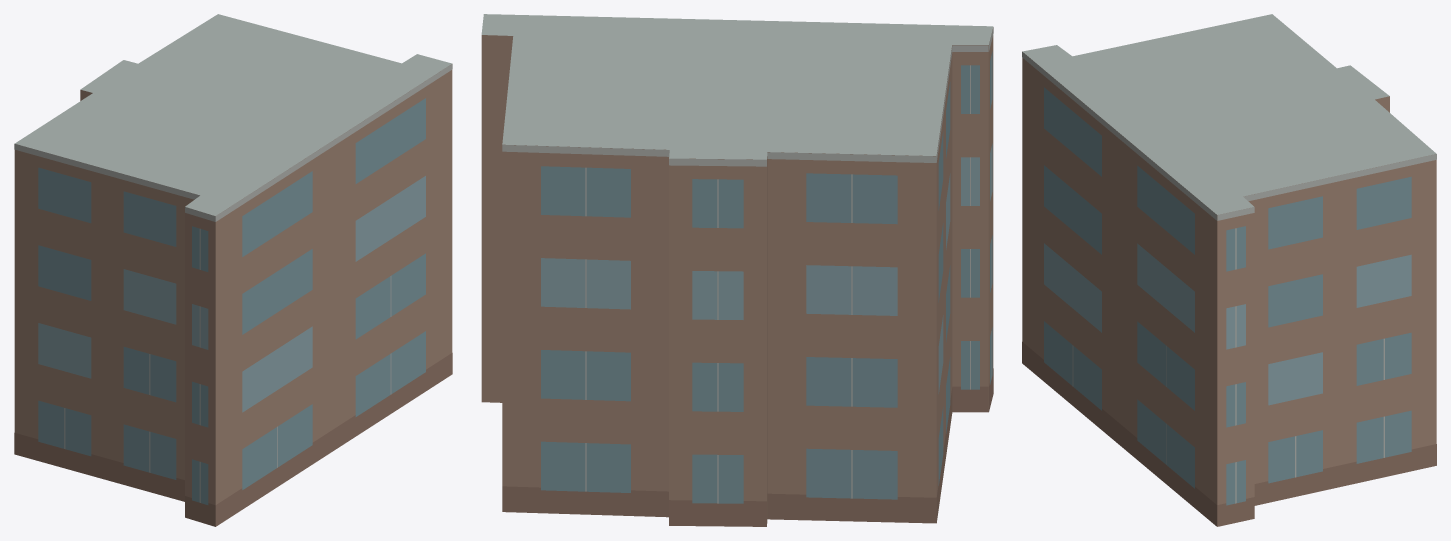
The model's file is survey-upis-32707225.glb.
3 renders of one model, left to right at view 1: azimuth 30°, elevation 25°; view 2: azimuth 150°, elevation 25°; view 3: azimuth 270°, elevation 25°, orthographic. The views are drawn at different scales.
Parts seen in each view (by area): view 1: survey-upis-32707225.tmp; view 2: survey-upis-32707225.tmp; view 3: survey-upis-32707225.tmp.
Boxes of the visible parts, x1,y1,x2,y2 form: survey-upis-32707225.tmp: (14, 14, 452, 526); survey-upis-32707225.tmp: (481, 14, 993, 526); survey-upis-32707225.tmp: (1022, 14, 1436, 526).
Size of the model in its own units: 17.71 by 12.8 by 15.43.
